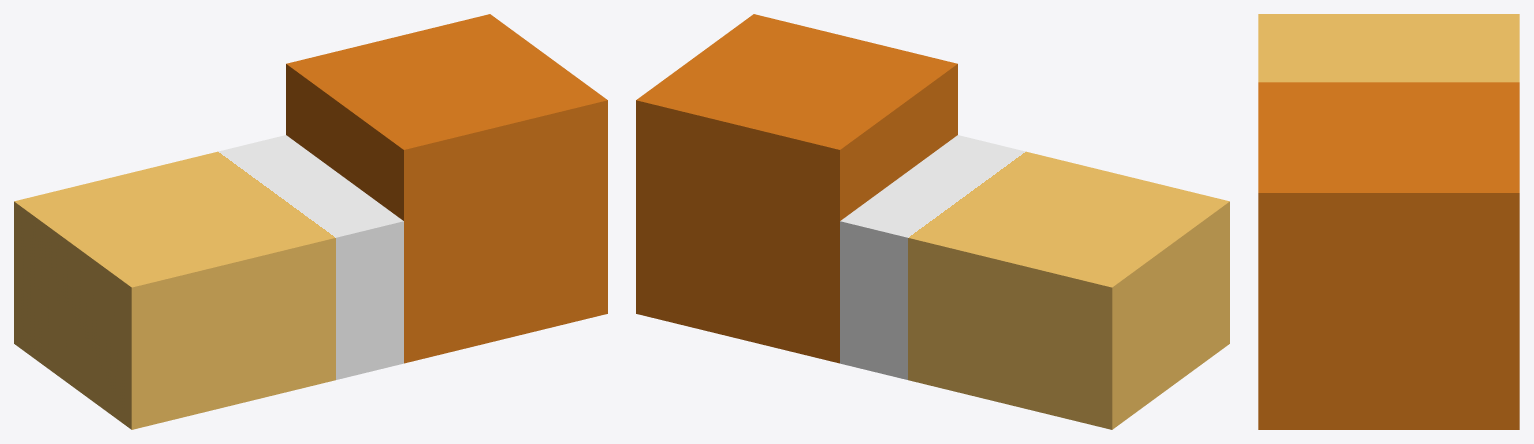
File: Bronze_Bracer_R.fbx
3 views of the same model, side by side, from view 1: azimuth 30°, elevation 25°; view 2: azimuth 150°, elevation 25°; view 3: azimuth 270°, elevation 25° (orthographic). The views are drawn at different scales.
Size of the model in its own units: 7 by 3 by 3.
1 material, 1 textured.
